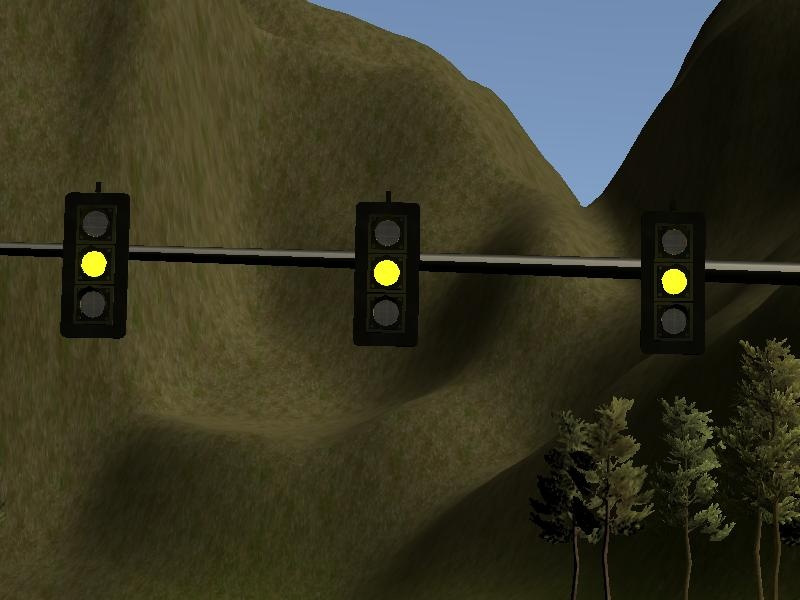YELLOW: (59, 185, 130, 338), (354, 197, 419, 346), (640, 205, 705, 354)
